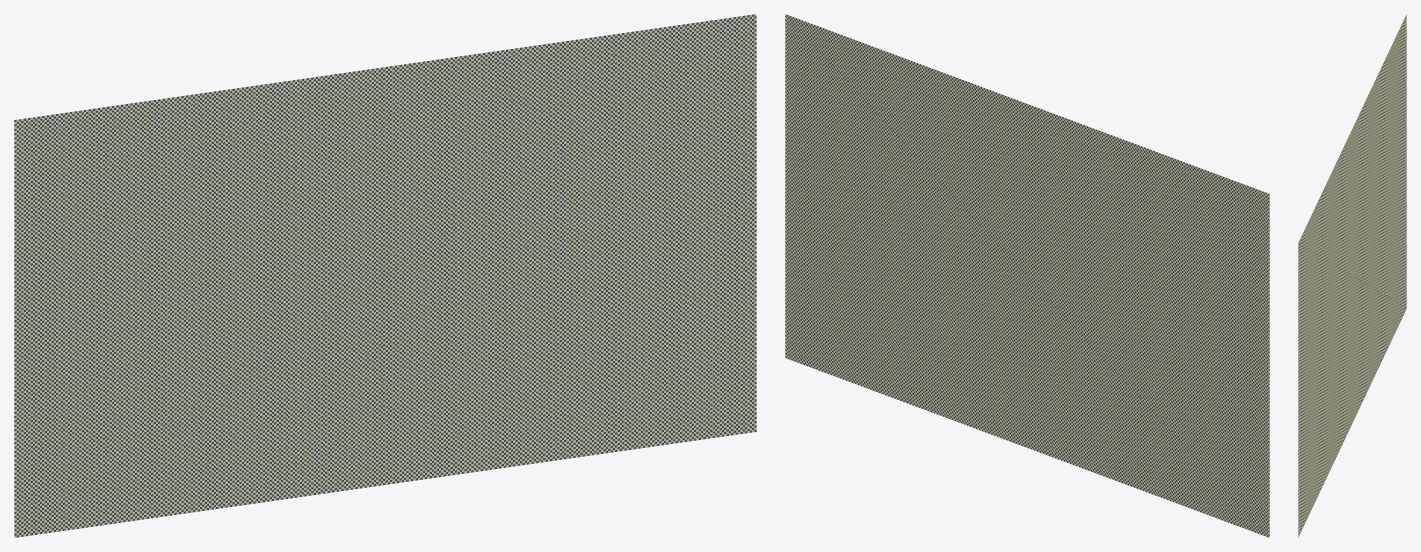
3 renders of one model, left to right at view 1: azimuth 30°, elevation 25°; view 2: azimuth 150°, elevation 25°; view 3: azimuth 270°, elevation 25°, orthographic. The views are drawn at different scales.
Bounding box in the file's own units: 10 × 6 × 2.
1 material, 1 textured.
